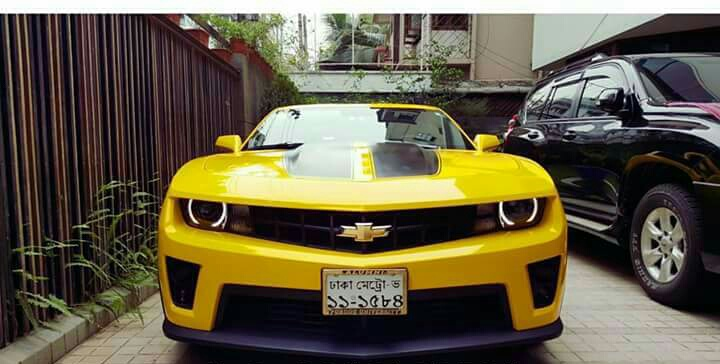registration_plate: (325, 273, 404, 310)
